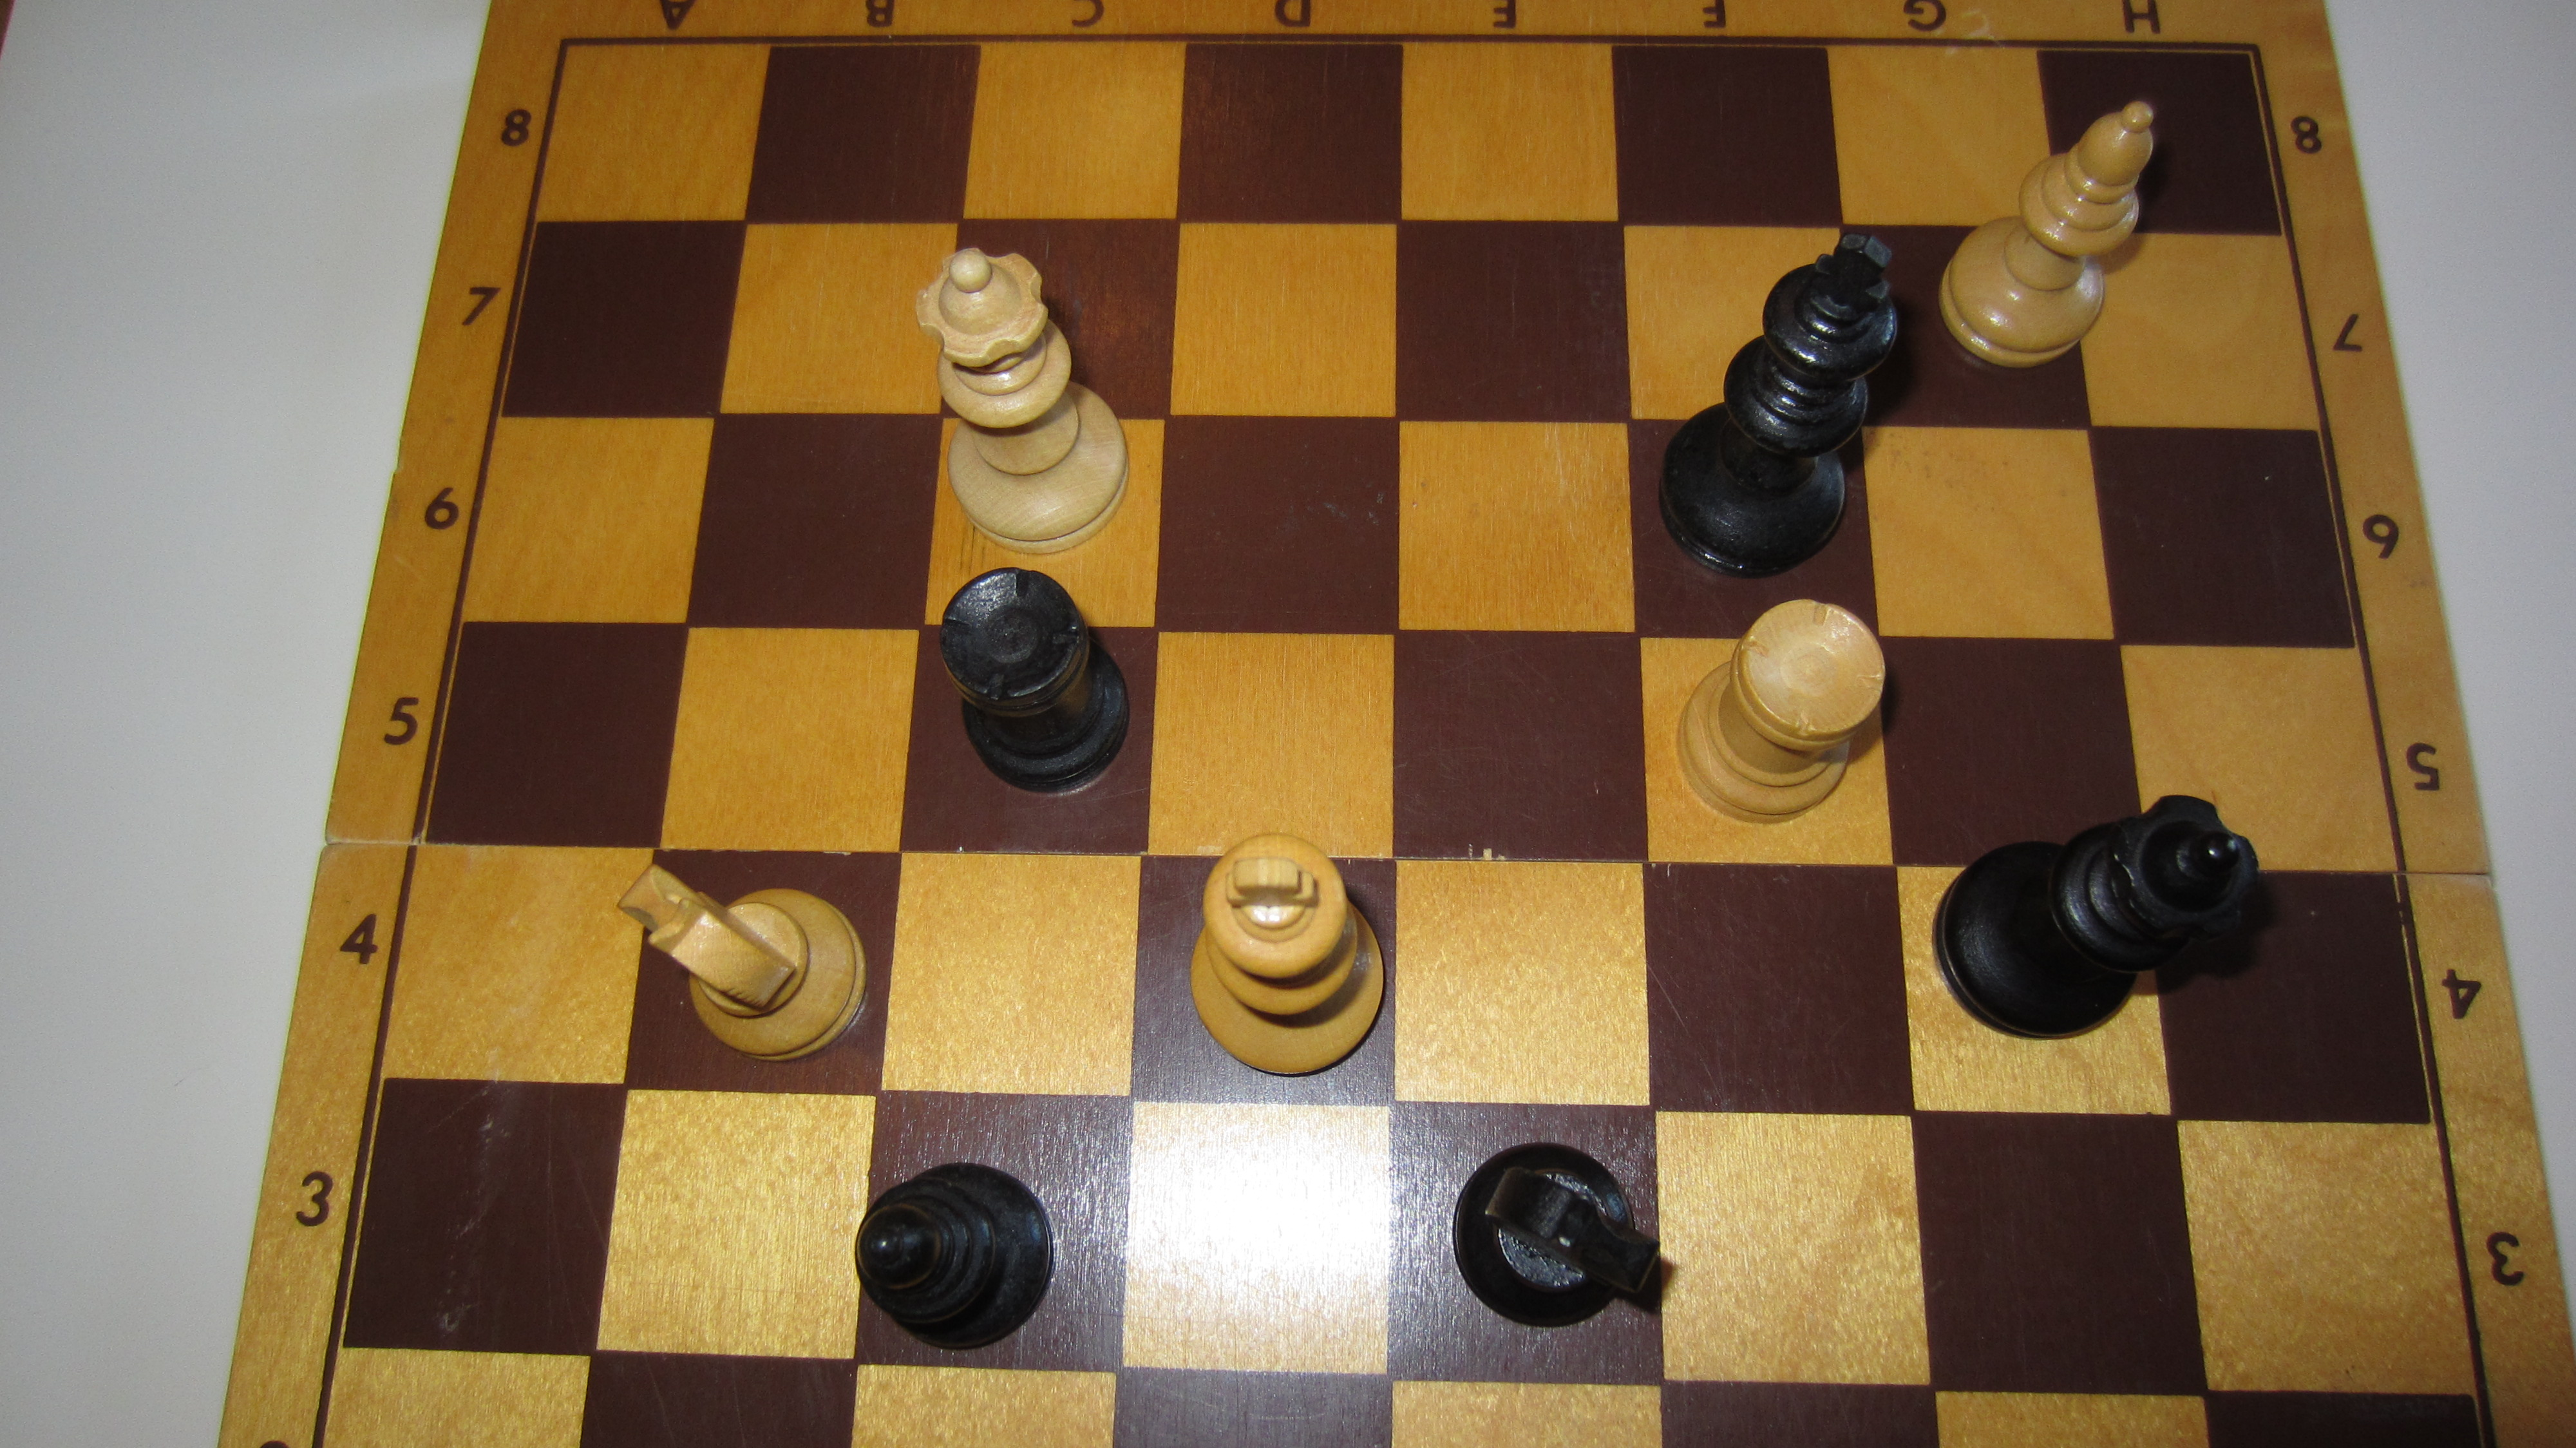black-bishop: (853, 1159, 1054, 1352)
black-king: (1656, 230, 1902, 582)
black-queen: (1928, 789, 2268, 1043)
black-rook: (938, 566, 1134, 795)
white-bishop: (1936, 99, 2158, 370)
white-king: (1189, 828, 1389, 1080)
white-knight: (614, 860, 870, 1064), (1451, 1140, 1663, 1329)
white-queen: (909, 244, 1134, 554)
white-rook: (1672, 597, 1888, 827)
